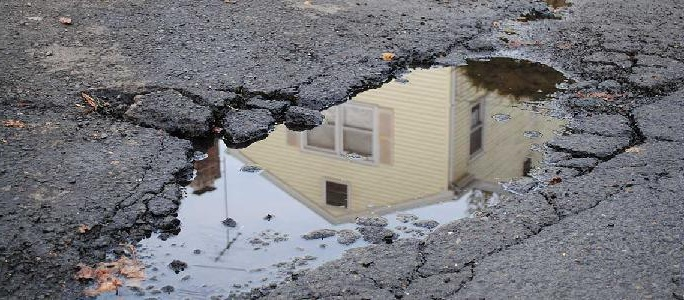pothole: (76, 38, 653, 299)
